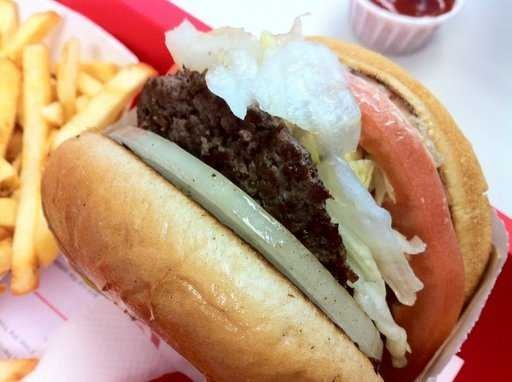hamburger: (30, 21, 496, 372)
